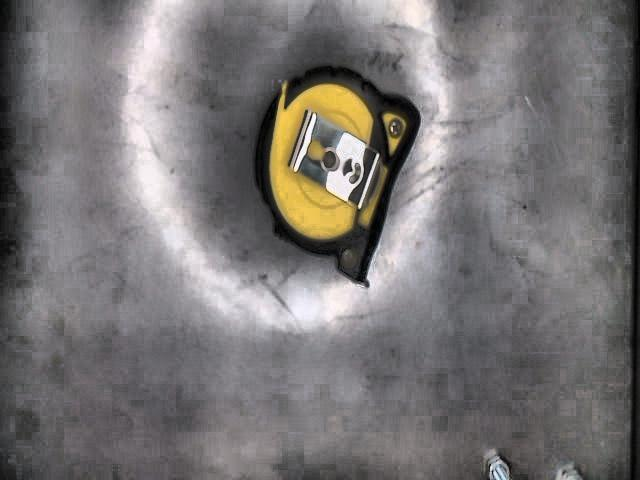Almennt: (253, 64, 420, 286)
